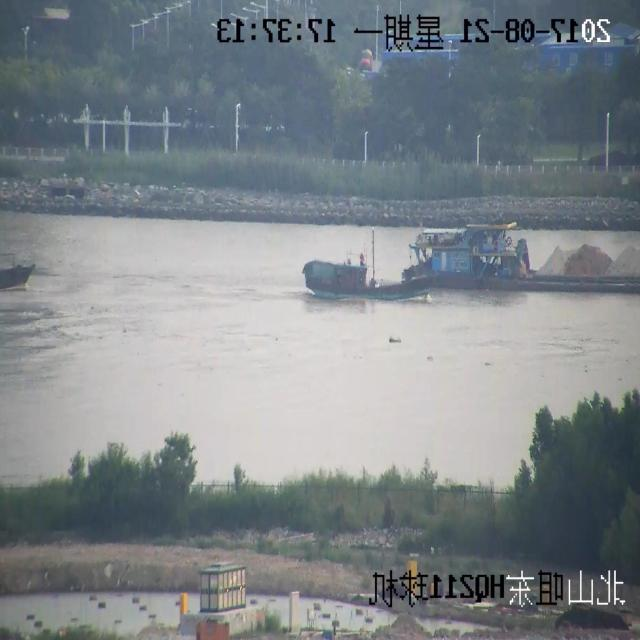cargoship: (418, 180, 640, 306)
fishing boat: (291, 226, 433, 310)
